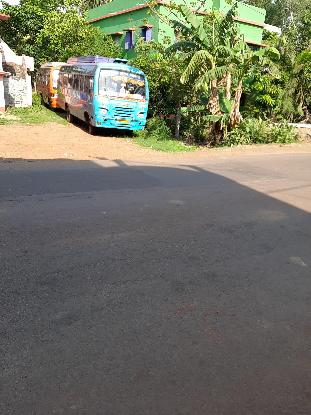bus: (57, 55, 149, 135), (36, 62, 68, 108)
